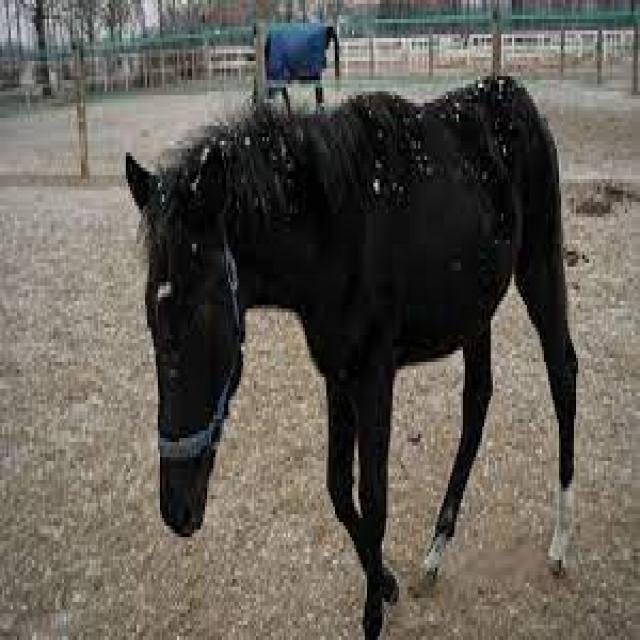horse: (128, 123, 592, 573)
